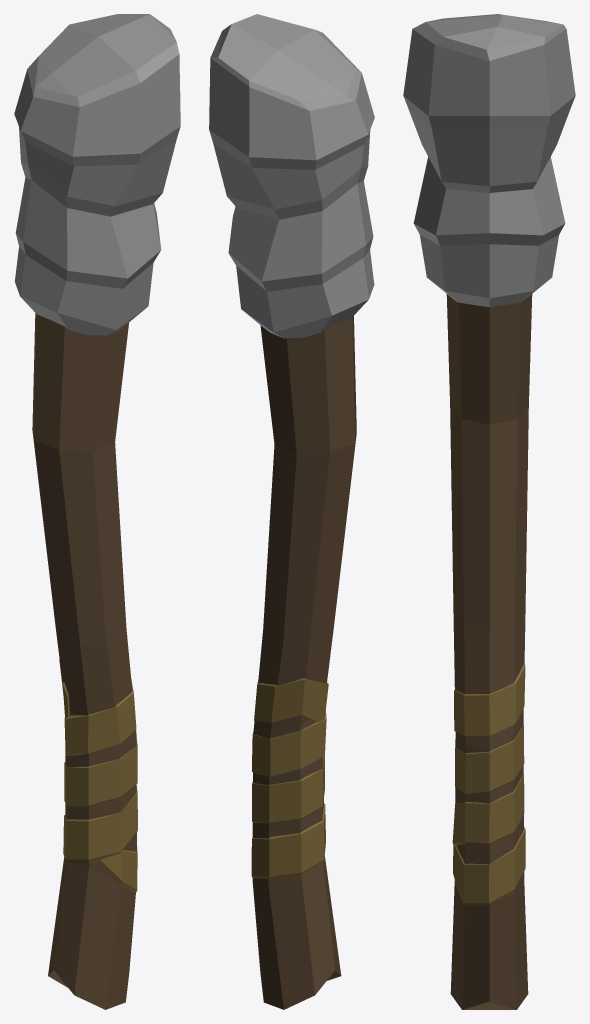
File: lantern.glb
3 views of the same model, side by side, from view 1: azimuth 30°, elevation 25°; view 2: azimuth 150°, elevation 25°; view 3: azimuth 270°, elevation 25° (orthographic). The views are drawn at different scales.
Visible parts, largest first — view 1: WoodenTorch; view 2: WoodenTorch; view 3: WoodenTorch.
Part boxes in pixels (left/top/right/bottom): WoodenTorch: left=14, top=14, right=180, bottom=1009; WoodenTorch: left=209, top=14, right=374, bottom=1009; WoodenTorch: left=403, top=14, right=575, bottom=1009.
Bounding box in the file's own units: 0.4573 × 2.69 × 0.4188.
